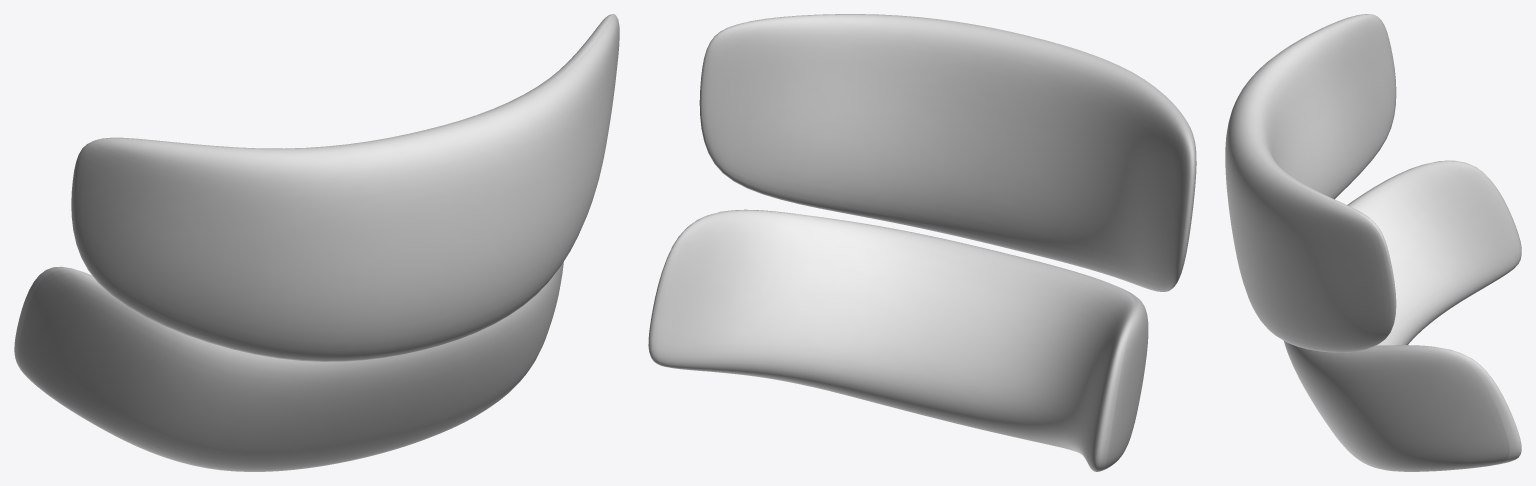
Rendered from teeth1.glb.
3 views of the same model, side by side, from view 1: azimuth 30°, elevation 25°; view 2: azimuth 150°, elevation 25°; view 3: azimuth 270°, elevation 25° (orthographic). The views are drawn at different scales.
Visible parts, largest first — view 1: teeth.001; view 2: teeth.001; view 3: teeth.001.
Boxes of the visible parts, left/top/right/bottom form: teeth.001: left=14, top=14, right=619, bottom=471; teeth.001: left=648, top=14, right=1196, bottom=471; teeth.001: left=1225, top=14, right=1521, bottom=471.
Size of the model in its own units: 0.543 by 0.3636 by 0.3143.
Materials: 1 (1 with a texture image).
